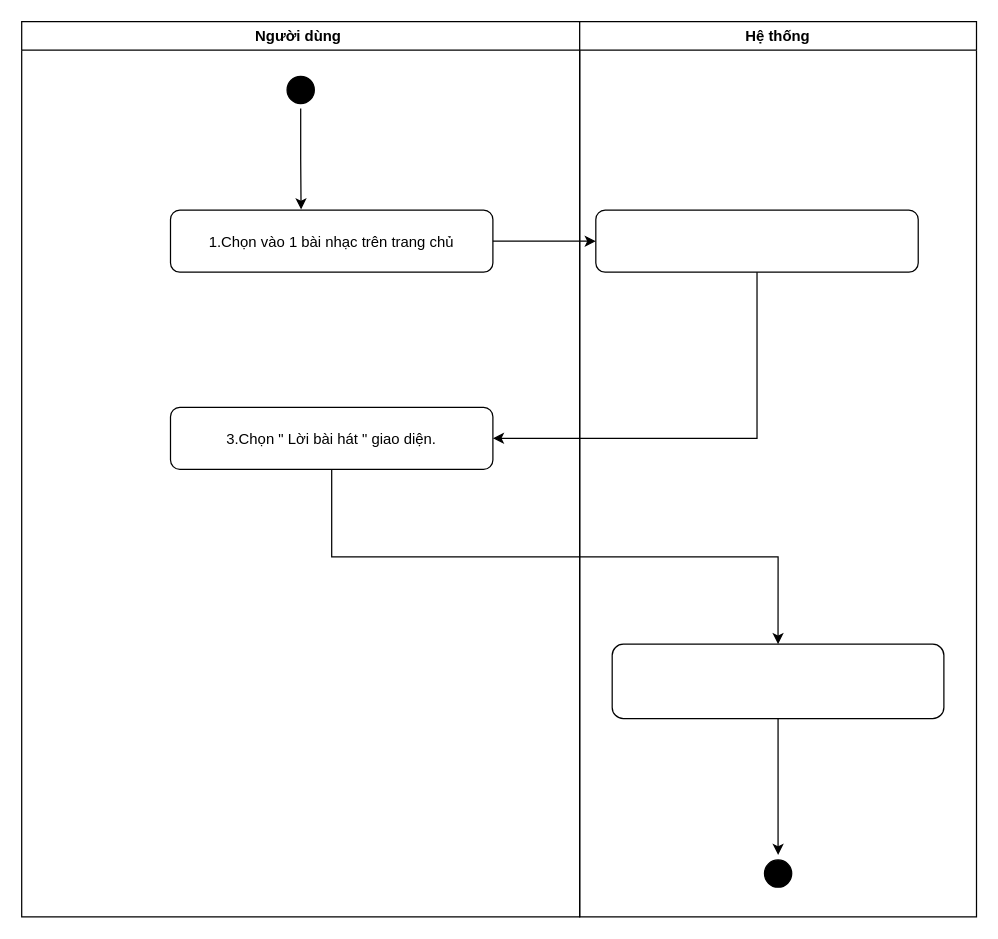
Image size: 998x939. Some labels were removed from this diagram. The centre of each missing label's shape, as x and y in pixels:
"2.Mở giao chi tiết bài nhạc" goes at (x=756, y=240).
"5.Hệ thống trả về lời bài hát được chọn." goes at (x=777, y=681).
